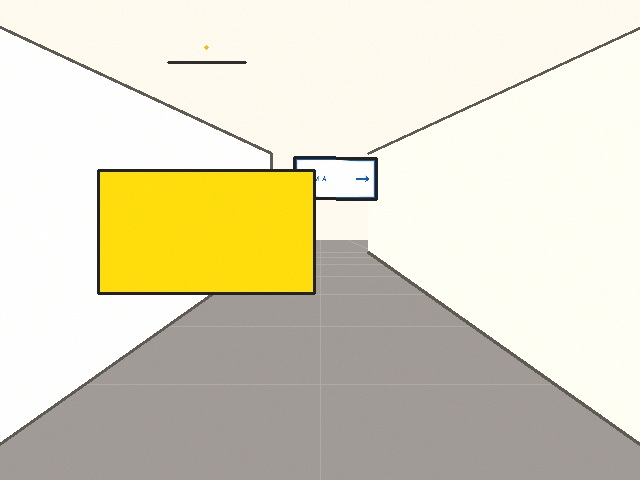directional_sign: (294, 157, 376, 199)
forklift: (98, 47, 315, 293)
